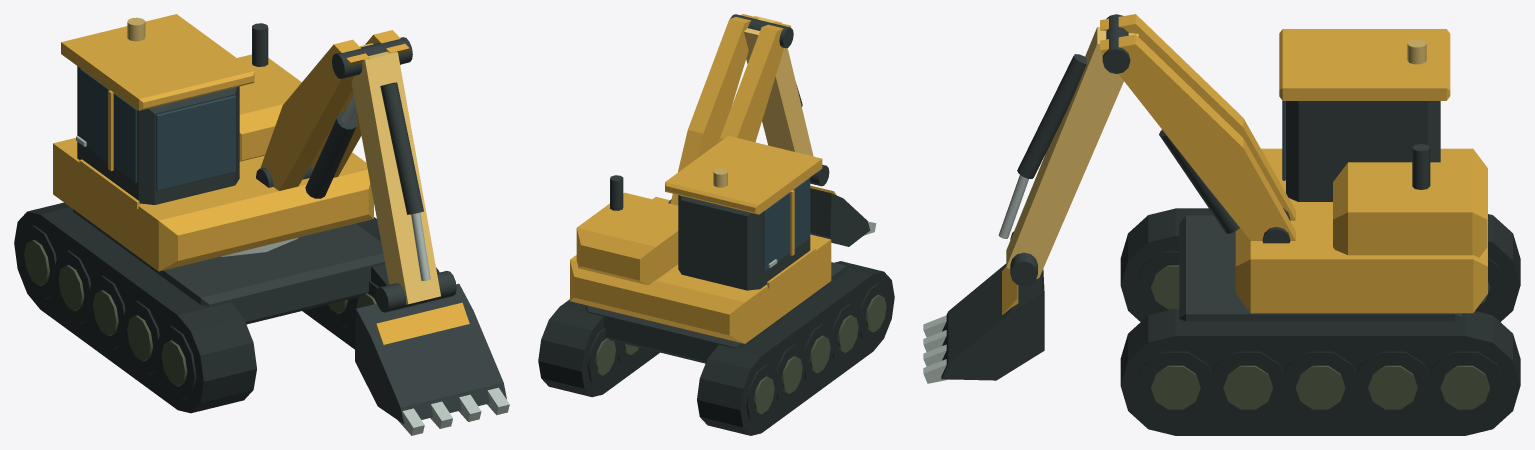
File: excavator.glb
The picture shows the model from 3 angles, left to right: view 1: azimuth 30°, elevation 25°; view 2: azimuth 150°, elevation 25°; view 3: azimuth 270°, elevation 25°; orthographic projection. The views are drawn at different scales.
Parts seen in each view (by area): view 1: upper_body_yellow, tracks_rubber, undercarriage_dark, bucket_dark, cab_roof_yellow, cab_glazing_glass, stick_yellowLight, boom_yellow, road_wheels_rubber, cab_dark, road_wheels_oliveDark, hydraulics_dark (+7 smaller); view 2: tracks_rubber, upper_body_yellow, boom_yellow, cab_dark, counterweight_yellow, cab_roof_yellow, road_wheels_rubber, undercarriage_dark, road_wheels_oliveDark, stick_yellowLight, cab_glazing_glass, bucket_dark (+3 smaller); view 3: tracks_rubber, upper_body_yellow, boom_yellow, road_wheels_rubber, counterweight_yellow, cab_roof_yellow, cab_dark, road_wheels_oliveDark, stick_yellowLight, bucket_dark, undercarriage_dark, hydraulics_dark (+5 smaller).
Part boxes in pixels (x1,y1,x2,y2): upper_body_yellow: (53, 138, 373, 271); tracks_rubber: (14, 202, 439, 413); undercarriage_dark: (73, 209, 384, 324); bucket_dark: (355, 283, 506, 424); cab_roof_yellow: (61, 14, 254, 110); cab_glazing_glass: (79, 68, 235, 190); stick_yellowLight: (351, 43, 440, 304); boom_yellow: (260, 30, 409, 190); road_wheels_rubber: (19, 225, 378, 399); cab_dark: (77, 66, 239, 204); road_wheels_oliveDark: (24, 239, 376, 386); hydraulics_dark: (305, 82, 423, 214); tracks_rubber: (538, 261, 894, 435); upper_body_yellow: (570, 197, 831, 343); boom_yellow: (670, 14, 790, 205); cab_dark: (678, 177, 810, 290); counterweight_yellow: (576, 192, 678, 285); cab_roof_yellow: (665, 136, 822, 214); road_wheels_rubber: (587, 282, 890, 425); undercarriage_dark: (586, 262, 846, 363); road_wheels_oliveDark: (595, 294, 886, 413); stick_yellowLight: (744, 16, 813, 156); cab_glazing_glass: (763, 178, 810, 270); bucket_dark: (810, 188, 870, 246); tracks_rubber: (1120, 208, 1520, 435); upper_body_yellow: (1235, 148, 1487, 313); boom_yellow: (1100, 14, 1295, 240); road_wheels_rubber: (1135, 251, 1505, 421); counterweight_yellow: (1333, 162, 1487, 257); cab_roof_yellow: (1279, 29, 1450, 100); cab_dark: (1286, 101, 1440, 201); road_wheels_oliveDark: (1151, 265, 1489, 409); stick_yellowLight: (1006, 27, 1138, 279); bucket_dark: (941, 263, 1044, 380); undercarriage_dark: (1179, 215, 1461, 321); hydraulics_dark: (1017, 54, 1239, 233).
Bounding box in the file's own units: 1.26 × 1.62 × 2.4.
